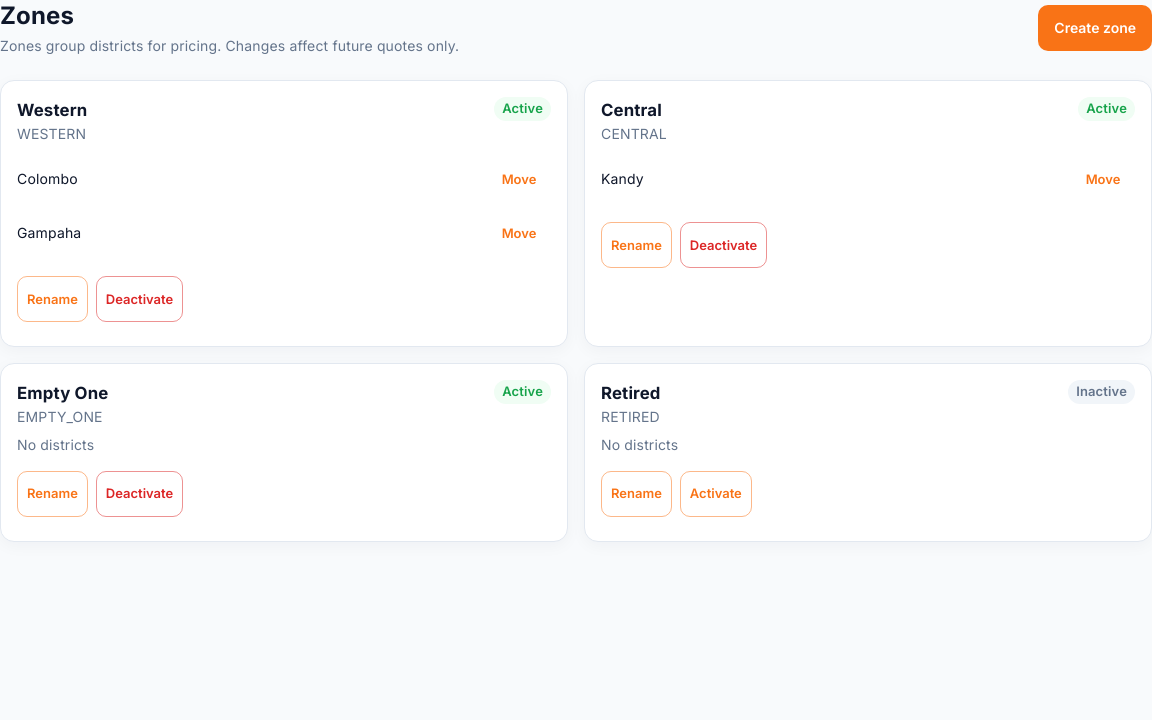
Scenario: TST-040 Member #5 admin zones page (FR-PRC-006) › rename: sends only the name
Later steps or results of the test are not shown.
What coordinates should you click on to do the following:
click the button with aria-label "Rename Western"
I would click on:
 (52, 299)
Its box is [17,276,88,322].
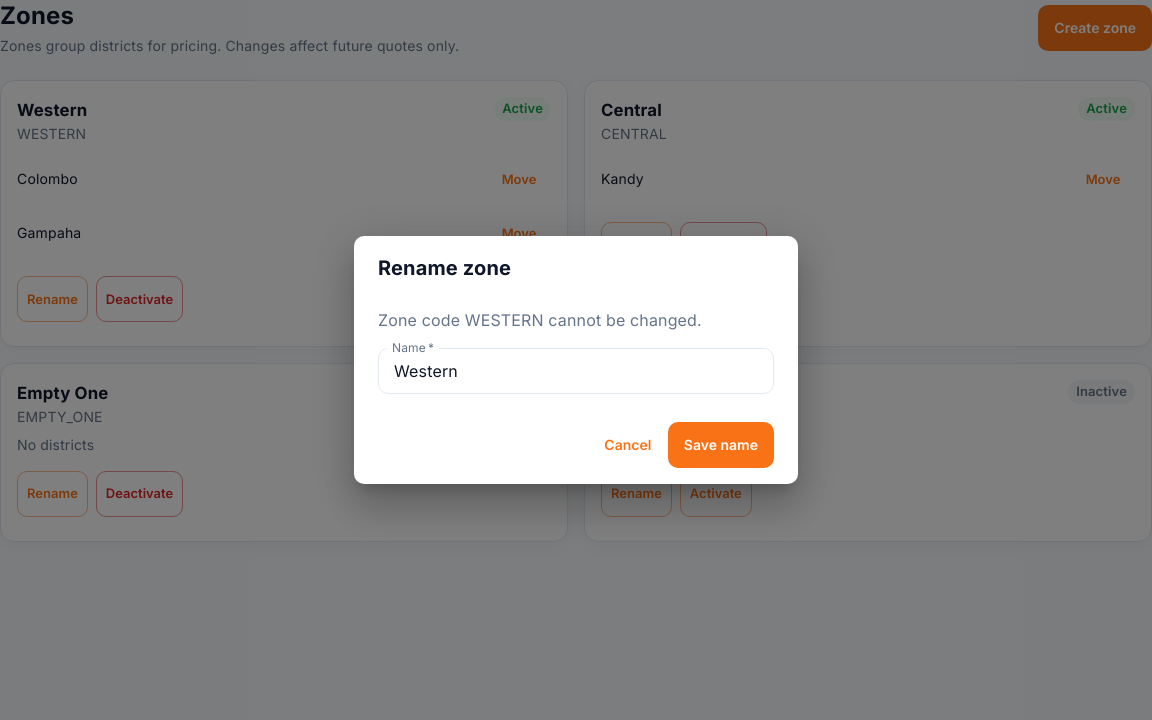
Check: the field labelled "Name *" holds "Western", box [378,348,774,394]
